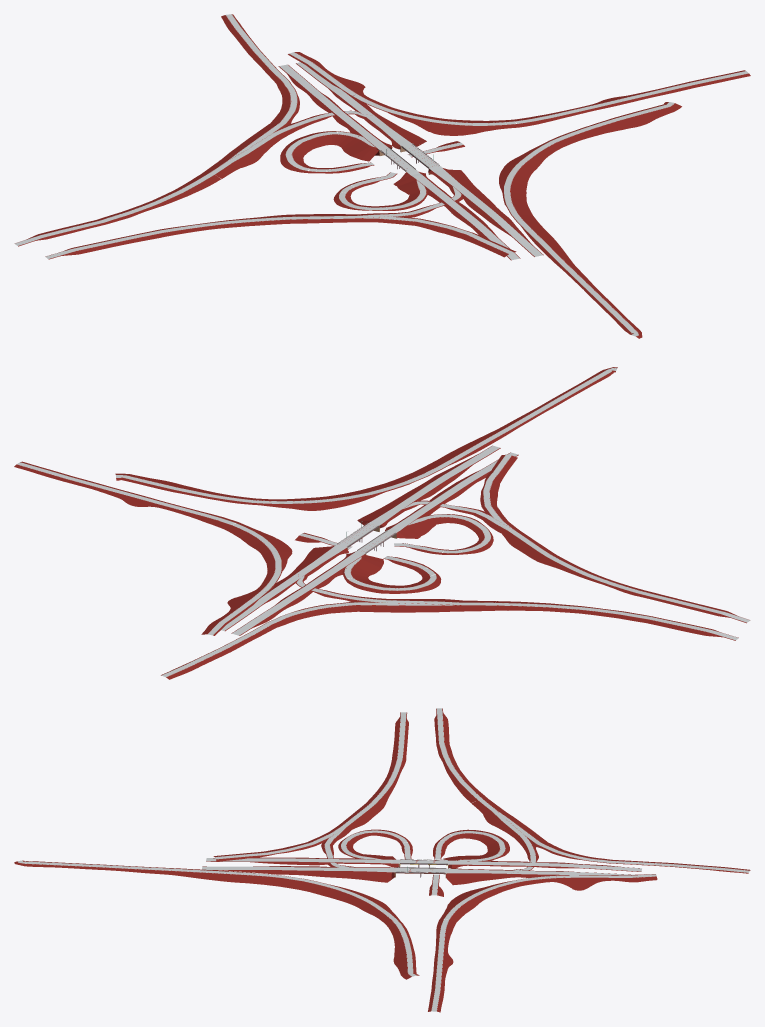
The model's file is br_y79_bremner.gltf.
3 renders of one model, top to bottom at view 1: azimuth 30°, elevation 25°; view 2: azimuth 150°, elevation 25°; view 3: azimuth 270°, elevation 25°, orthographic. The views are drawn at different scales.
Parts seen in each view (by area): view 1: br_y79_bremner; view 2: br_y79_bremner; view 3: br_y79_bremner.
Part boxes in pixels (x1,y1,x2,y2): br_y79_bremner: (14,14,750,338); br_y79_bremner: (14,367,750,679); br_y79_bremner: (14,708,750,1012).
Bounding box in the file's own units: 1101 × 21.62 × 1139.
